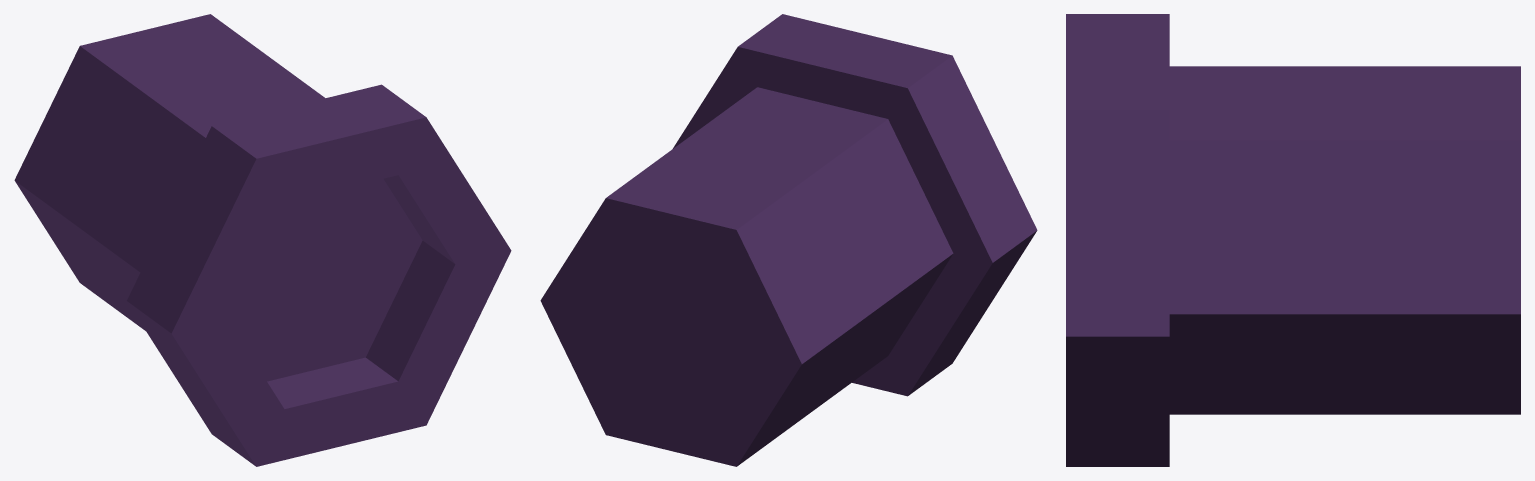
File: TuberiaGrande.fbx
The picture shows the model from 3 angles, left to right: view 1: azimuth 30°, elevation 25°; view 2: azimuth 150°, elevation 25°; view 3: azimuth 270°, elevation 25°; orthographic projection. The views are drawn at different scales.
Visible parts, largest first — view 1: pCylinder33; view 2: pCylinder33; view 3: pCylinder33.
Boxes of the visible parts, x1=… form: pCylinder33: x1=14, y1=14, x2=511, y2=466; pCylinder33: x1=540, y1=14, x2=1037, y2=466; pCylinder33: x1=1066, y1=14, x2=1520, y2=466.
Size of the model in its own units: 147 by 128 by 147.
